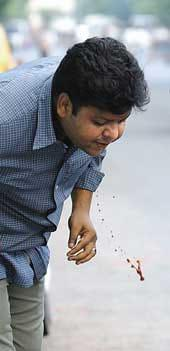Spitting: (52, 28, 170, 202)
